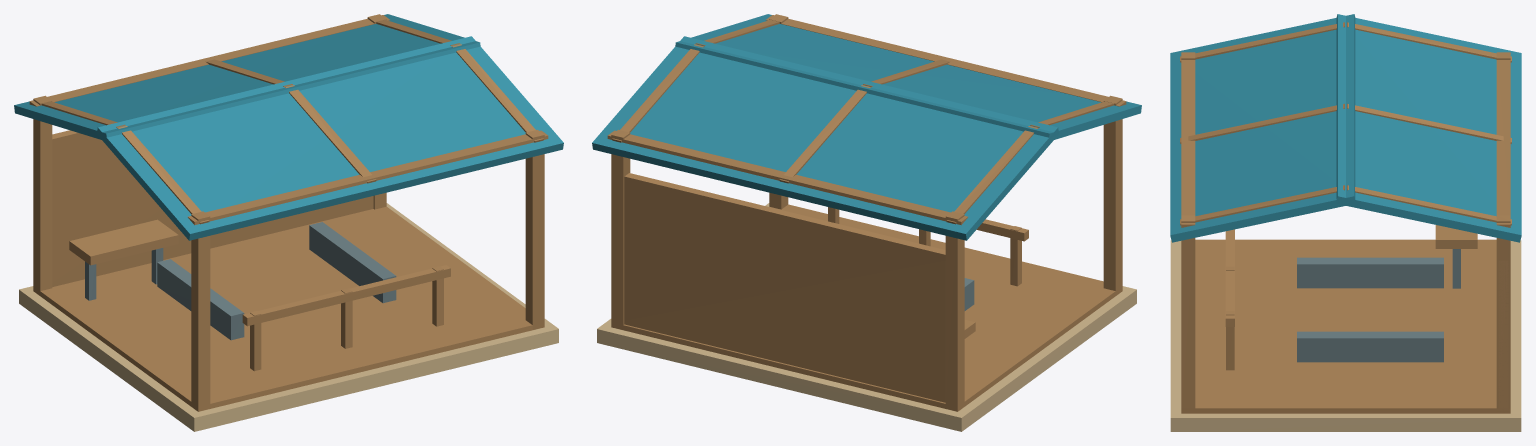
The model's file is wagon-depot.source.glb.
The picture shows the model from 3 angles, left to right: view 1: azimuth 30°, elevation 25°; view 2: azimuth 150°, elevation 25°; view 3: azimuth 270°, elevation 25°; orthographic projection.
Parts seen in each view (by area): view 1: wagon-depot-wide-plank-floor-mesh, wagon-depot-right-roof-plane-mesh, wagon-depot-left-roof-plane-mesh, wagon-depot-rear-timber-wall-mesh, wagon-depot-stone-foundation-mesh, wagon-depot-timber-post--2.75-2.25-mesh, wagon-depot-front-header-mesh, wagon-depot-timber-post-2.75-2.25-mesh, wagon-depot-timber-post--2.75--2.25-mesh, wagon-depot-wheel-work-bench-mesh, wagon-depot-chassis-support-rail-right-mesh, wagon-depot-hitching-rail-mesh (+9 smaller); view 2: wagon-depot-rear-timber-wall-mesh, wagon-depot-left-roof-plane-mesh, wagon-depot-right-roof-plane-mesh, wagon-depot-wide-plank-floor-mesh, wagon-depot-stone-foundation-mesh, wagon-depot-timber-post--2.75--2.25-mesh, wagon-depot-rear-header-mesh, wagon-depot-timber-post--2.75-2.25-mesh, wagon-depot-timber-post-2.75--2.25-mesh, wagon-depot-front-header-mesh, wagon-depot-gable-rafter-left-0-mesh, wagon-depot-gable-rafter-left--2.75-mesh (+4 smaller); view 3: wagon-depot-wide-plank-floor-mesh, wagon-depot-left-roof-plane-mesh, wagon-depot-right-roof-plane-mesh, wagon-depot-stone-foundation-mesh, wagon-depot-chassis-support-rail-left-mesh, wagon-depot-chassis-support-rail-right-mesh, wagon-depot-timber-post-2.75-2.25-mesh, wagon-depot-front-header-mesh, wagon-depot-rear-header-mesh, wagon-depot-timber-post-2.75--2.25-mesh, wagon-depot-rear-timber-wall-mesh, wagon-depot-gable-rafter-left-0-mesh (+9 smaller).
Part boxes in pixels (bbox=[...]): wagon-depot-wide-plank-floor-mesh: bbox=[40, 206, 532, 411]; wagon-depot-right-roof-plane-mesh: bbox=[97, 36, 563, 240]; wagon-depot-left-roof-plane-mesh: bbox=[14, 14, 480, 141]; wagon-depot-rear-timber-wall-mesh: bbox=[52, 130, 373, 286]; wagon-depot-stone-foundation-mesh: bbox=[19, 203, 558, 431]; wagon-depot-timber-post--2.75-2.25-mesh: bbox=[191, 211, 210, 411]; wagon-depot-front-header-mesh: bbox=[188, 130, 548, 225]; wagon-depot-timber-post-2.75-2.25-mesh: bbox=[525, 129, 544, 329]; wagon-depot-timber-post--2.75--2.25-mesh: bbox=[33, 95, 52, 295]; wagon-depot-wheel-work-bench-mesh: bbox=[69, 219, 178, 265]; wagon-depot-chassis-support-rail-right-mesh: bbox=[309, 222, 396, 303]; wagon-depot-hitching-rail-mesh: bbox=[242, 265, 450, 326]; wagon-depot-rear-timber-wall-mesh: bbox=[624, 173, 959, 402]; wagon-depot-left-roof-plane-mesh: bbox=[592, 36, 1058, 240]; wagon-depot-right-roof-plane-mesh: bbox=[675, 14, 1141, 141]; wagon-depot-wide-plank-floor-mesh: bbox=[623, 204, 1122, 411]; wagon-depot-stone-foundation-mesh: bbox=[597, 203, 1136, 431]; wagon-depot-timber-post--2.75--2.25-mesh: bbox=[945, 211, 964, 411]; wagon-depot-rear-header-mesh: bbox=[607, 130, 967, 225]; wagon-depot-timber-post--2.75-2.25-mesh: bbox=[1103, 95, 1122, 295]; wagon-depot-timber-post-2.75--2.25-mesh: bbox=[611, 129, 630, 329]; wagon-depot-front-header-mesh: bbox=[766, 15, 1126, 106]; wagon-depot-gable-rafter-left-0-mesh: bbox=[779, 85, 870, 183]; wagon-depot-gable-rafter-left--2.75-mesh: bbox=[946, 126, 1038, 224]; wagon-depot-wide-plank-floor-mesh: bbox=[1181, 239, 1510, 413]; wagon-depot-left-roof-plane-mesh: bbox=[1335, 14, 1521, 242]; wagon-depot-right-roof-plane-mesh: bbox=[1170, 14, 1355, 242]; wagon-depot-stone-foundation-mesh: bbox=[1170, 240, 1521, 431]; wagon-depot-chassis-support-rail-left-mesh: bbox=[1297, 257, 1443, 288]; wagon-depot-chassis-support-rail-right-mesh: bbox=[1297, 331, 1443, 362]; wagon-depot-timber-post-2.75-2.25-mesh: bbox=[1181, 215, 1195, 412]; wagon-depot-front-header-mesh: bbox=[1181, 52, 1195, 227]; wagon-depot-rear-header-mesh: bbox=[1496, 52, 1510, 227]; wagon-depot-timber-post-2.75--2.25-mesh: bbox=[1496, 215, 1510, 412]; wagon-depot-rear-timber-wall-mesh: bbox=[1498, 260, 1508, 409]; wagon-depot-gable-rafter-left-0-mesh: bbox=[1347, 103, 1511, 143].
Bounding box in the file's own units: 6.15 × 3.75 × 5.02.
